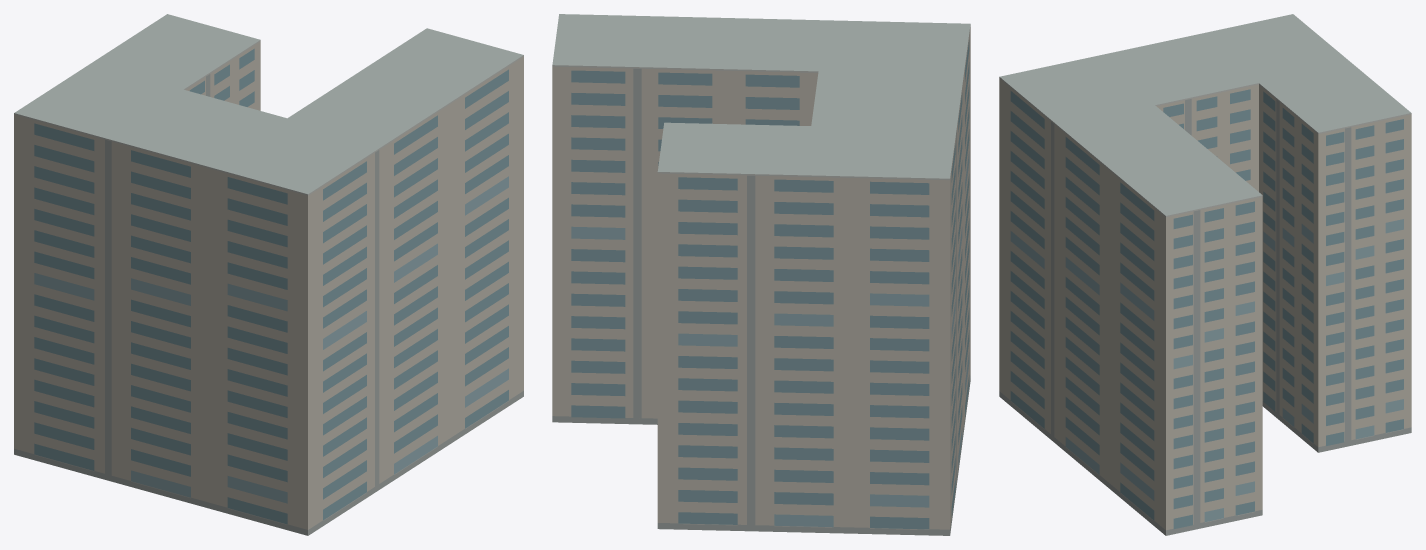
File: residential-a88561f2-9a1b-4731-84ac-45a1c6af955e.glb
The picture shows the model from 3 angles, left to right: view 1: azimuth 30°, elevation 25°; view 2: azimuth 150°, elevation 25°; view 3: azimuth 270°, elevation 25°; orthographic projection. The views are drawn at different scales.
Parts seen in each view (by area): view 1: residential-a88561f2-9a1b-4731-84ac-45a1c6af955e.tmp; view 2: residential-a88561f2-9a1b-4731-84ac-45a1c6af955e.tmp; view 3: residential-a88561f2-9a1b-4731-84ac-45a1c6af955e.tmp.
Boxes of the visible parts, bbox=[...] form: residential-a88561f2-9a1b-4731-84ac-45a1c6af955e.tmp: bbox=[14, 14, 523, 535]; residential-a88561f2-9a1b-4731-84ac-45a1c6af955e.tmp: bbox=[552, 14, 970, 535]; residential-a88561f2-9a1b-4731-84ac-45a1c6af955e.tmp: bbox=[999, 14, 1411, 535].
Bounding box in the file's own units: 77.16 × 57 × 66.54.
